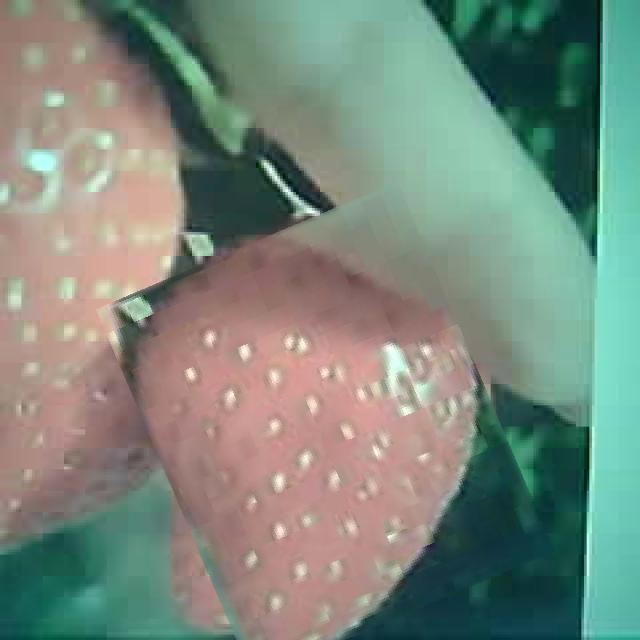strawberry: (129, 205, 522, 640)
